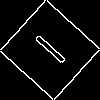I: (25, 25, 68, 67)
